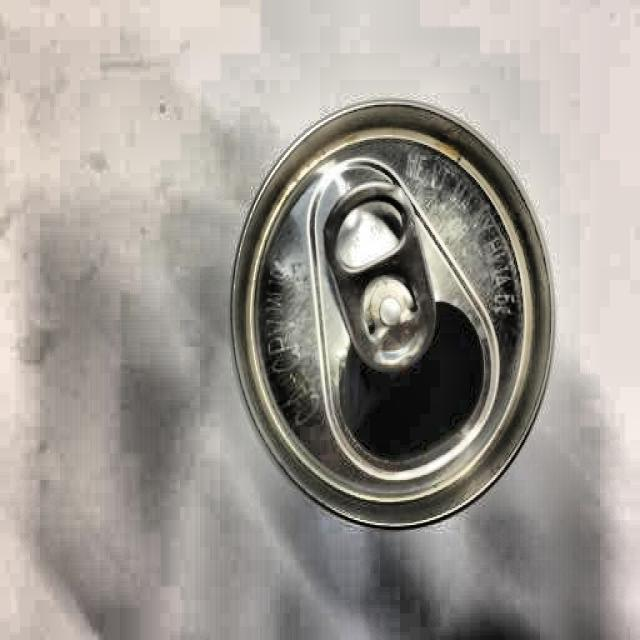metal: (231, 95, 556, 533)
